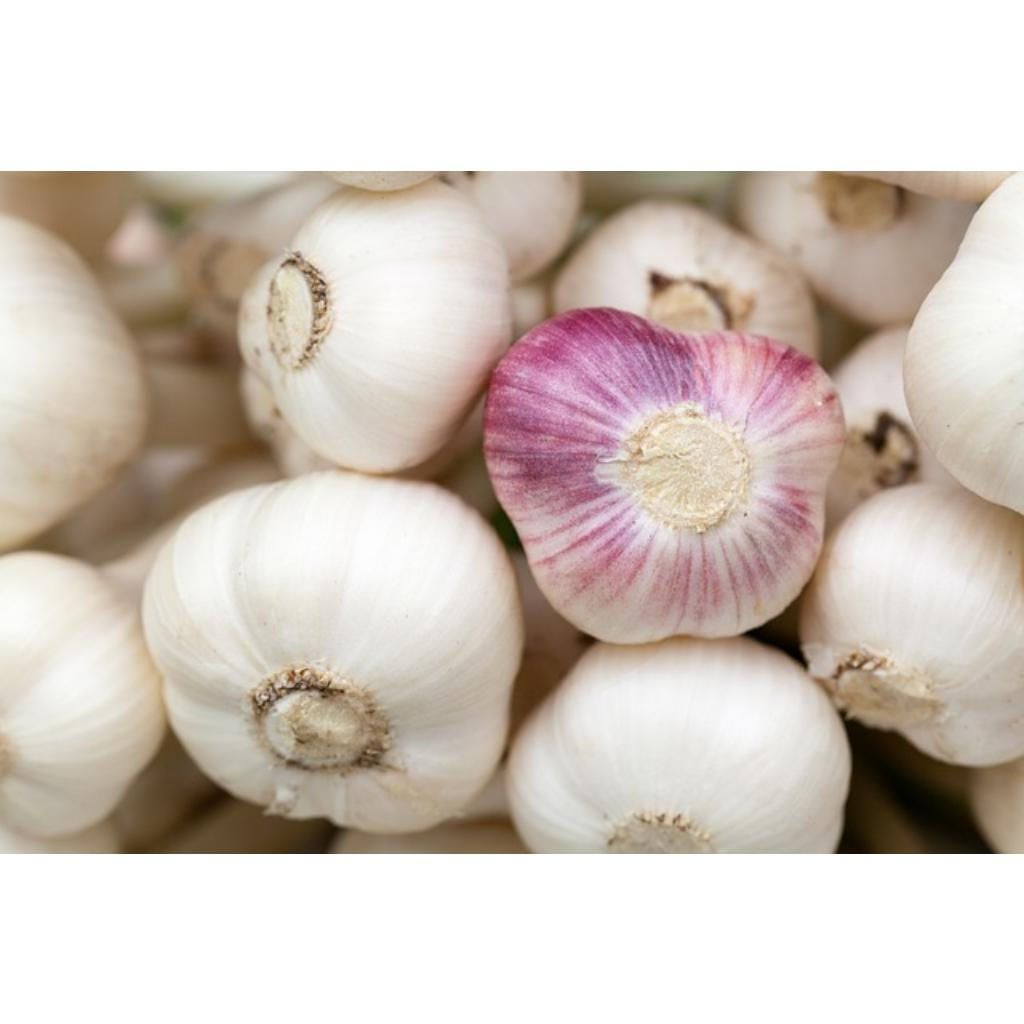garlic: (142, 470, 522, 832), (486, 308, 844, 641), (240, 178, 512, 471), (510, 636, 850, 852), (802, 482, 1024, 765), (1, 212, 148, 549), (0, 552, 166, 836), (904, 170, 1024, 511)
